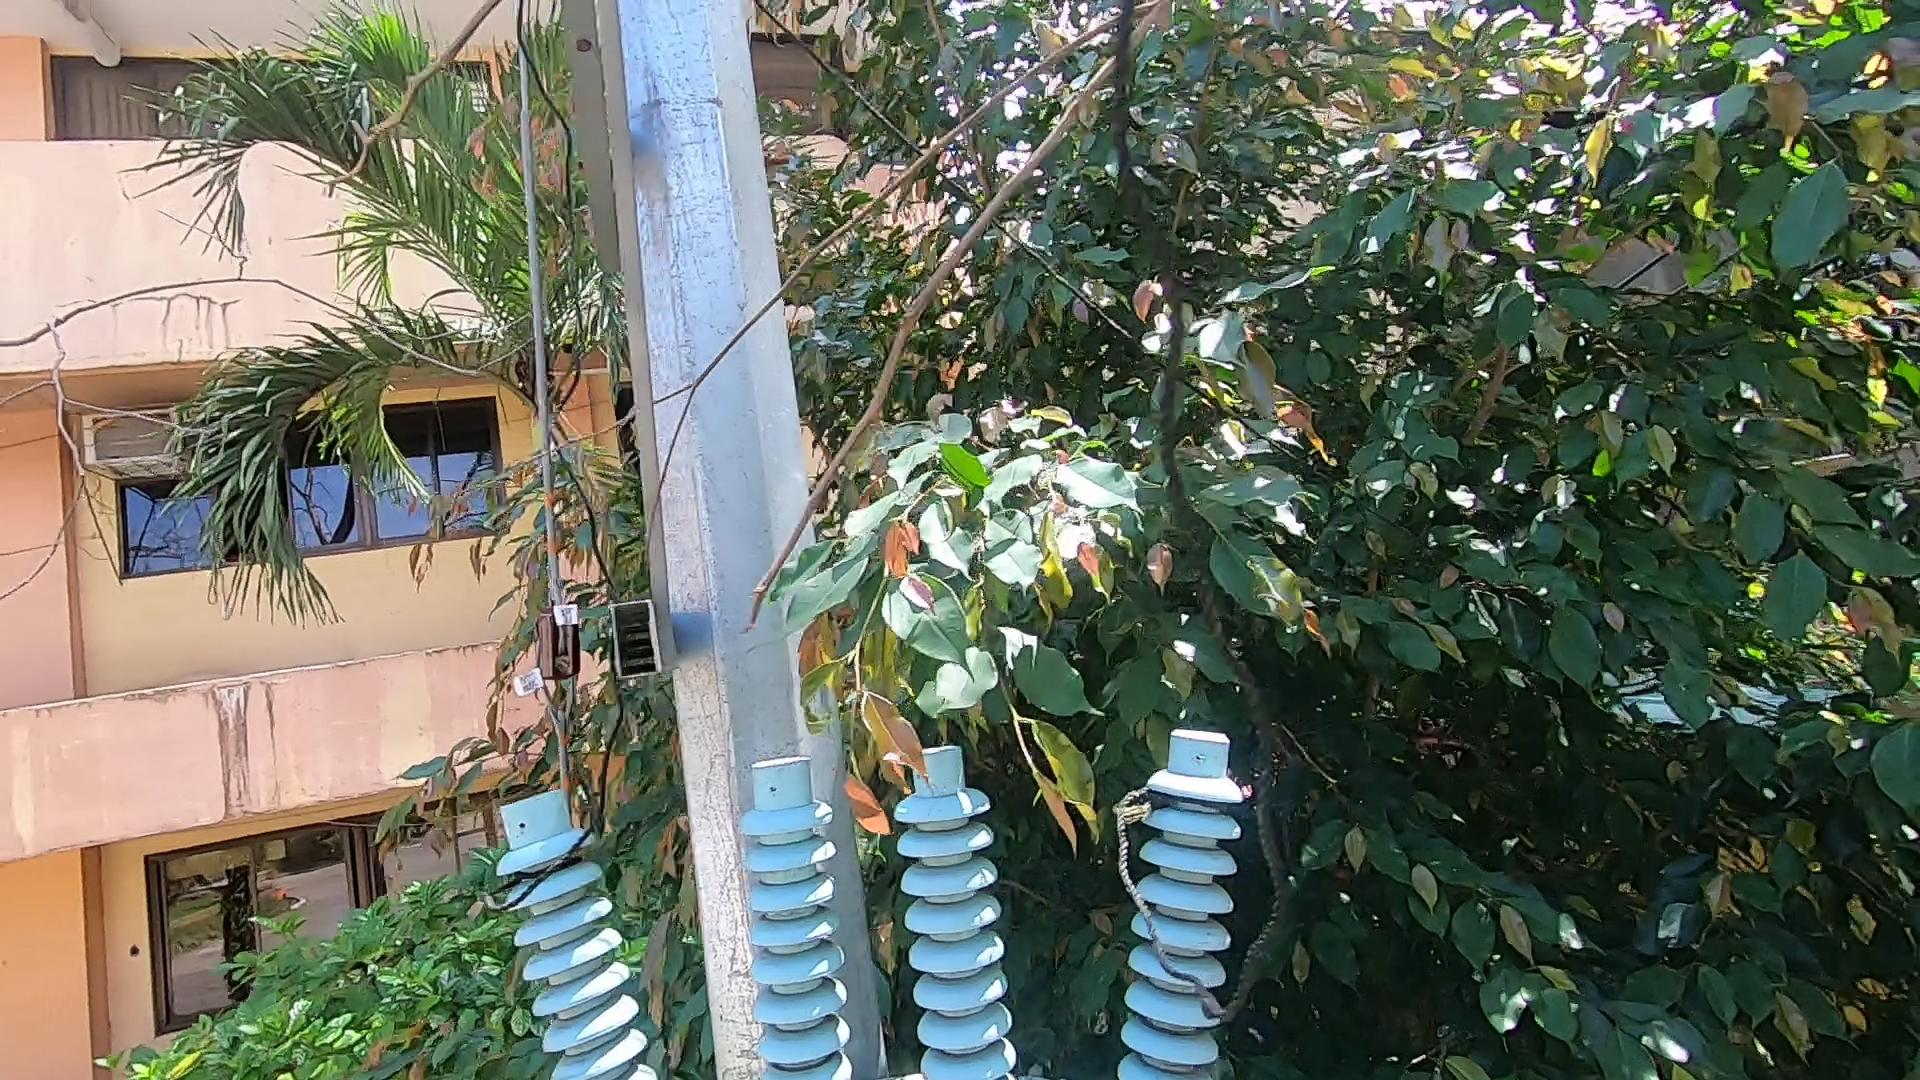branch with leaves: (818, 669, 956, 840)
tree branch: (477, 208, 816, 605)
